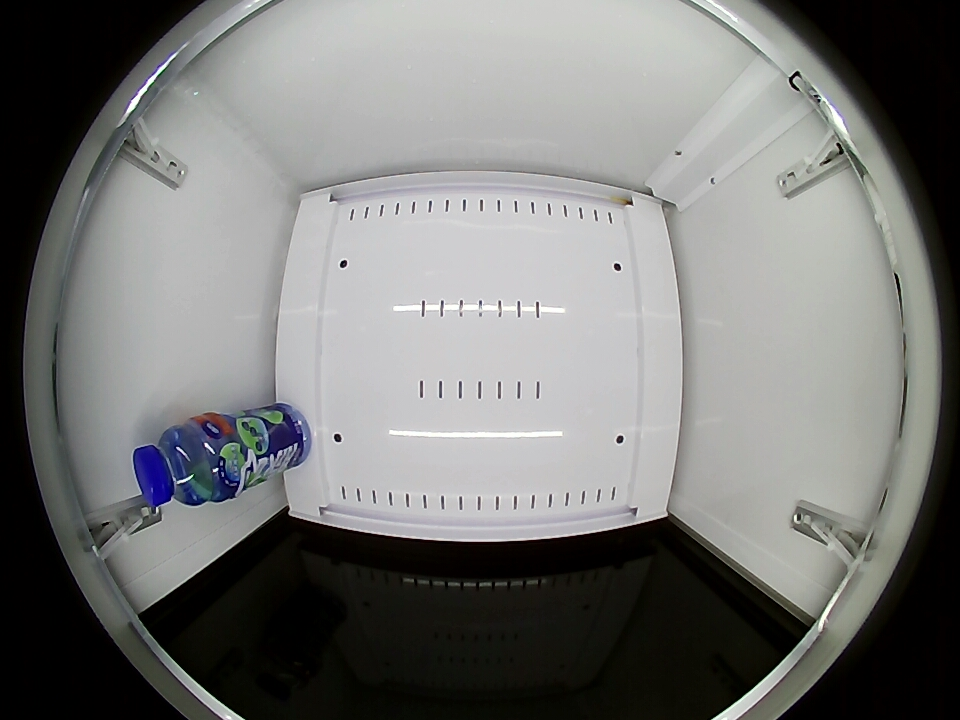maidong: (132, 419, 228, 507)
